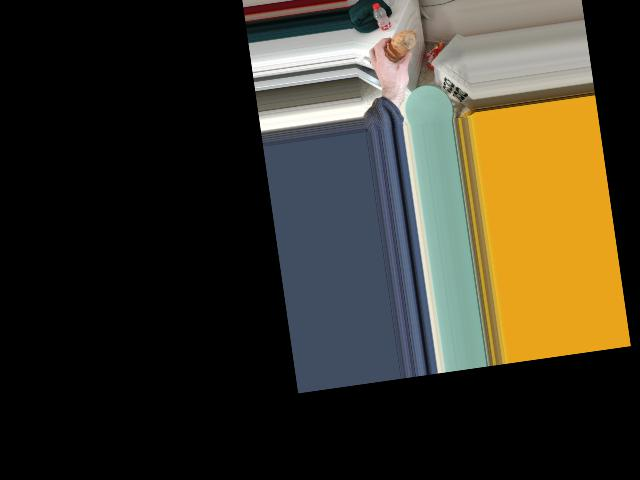sweet_potato: (384, 27, 418, 62)
